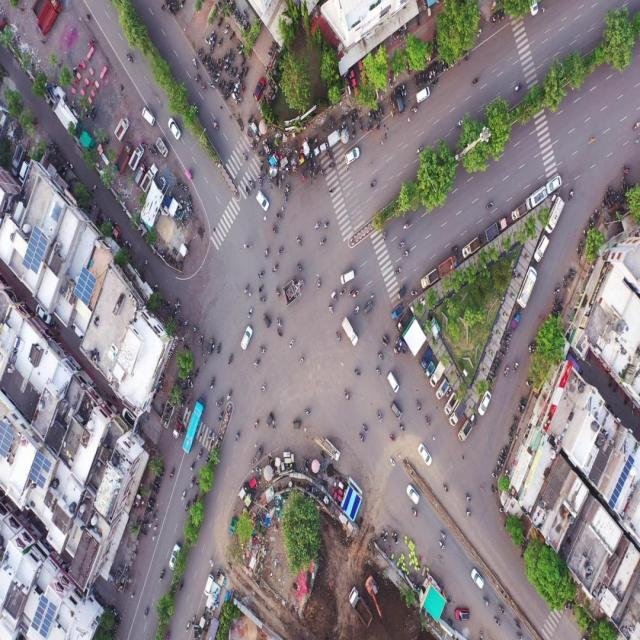3W: (510, 313, 521, 332), (265, 410, 275, 430), (206, 337, 216, 355), (396, 285, 408, 300), (254, 445, 265, 461), (262, 312, 271, 330), (362, 300, 372, 316), (290, 418, 302, 430), (183, 168, 194, 181)
Bus: (182, 400, 207, 451)
Cars: (534, 234, 550, 263), (418, 441, 434, 467), (404, 483, 420, 508), (251, 76, 267, 101), (252, 189, 271, 210), (470, 567, 486, 590), (239, 325, 252, 353), (478, 388, 491, 416), (168, 116, 182, 141), (338, 268, 356, 287), (168, 542, 180, 570), (546, 175, 562, 196), (141, 105, 155, 128), (386, 371, 400, 393), (389, 398, 402, 421), (344, 146, 360, 164), (416, 84, 430, 104), (454, 606, 470, 622), (393, 87, 402, 114), (205, 573, 213, 596)
LCV: (517, 266, 537, 308), (546, 197, 564, 233), (525, 186, 548, 209), (437, 255, 458, 278), (342, 316, 358, 345), (419, 267, 438, 291), (140, 165, 157, 191), (114, 115, 130, 141), (450, 400, 466, 426), (128, 143, 143, 170), (430, 361, 443, 392), (133, 160, 146, 186), (463, 236, 479, 257), (324, 439, 339, 461), (436, 377, 449, 402), (510, 201, 526, 221), (458, 419, 472, 441), (446, 391, 458, 416), (156, 136, 169, 157), (327, 128, 341, 147), (396, 314, 408, 334), (395, 336, 407, 354), (421, 350, 433, 368), (172, 419, 182, 438), (424, 363, 435, 379), (390, 307, 402, 321)
M2W: (168, 464, 176, 480), (375, 409, 383, 425), (329, 289, 338, 303), (491, 616, 502, 627), (295, 259, 303, 274), (296, 355, 306, 367), (211, 119, 220, 132), (316, 274, 322, 293), (189, 474, 196, 490), (158, 567, 166, 581), (142, 606, 150, 620), (502, 364, 510, 378), (416, 144, 425, 156), (497, 603, 506, 615), (513, 618, 522, 630), (225, 389, 233, 402), (410, 505, 418, 518), (126, 52, 134, 65), (485, 201, 495, 211), (295, 234, 302, 248), (209, 375, 216, 389), (234, 429, 241, 443), (180, 488, 187, 502), (226, 353, 234, 365), (218, 393, 224, 409), (196, 445, 202, 461), (184, 497, 190, 513), (482, 596, 490, 608), (298, 170, 306, 182), (567, 188, 574, 201), (512, 361, 519, 374), (343, 390, 350, 403), (415, 399, 422, 412), (256, 269, 265, 279), (313, 221, 322, 231), (456, 118, 465, 128), (449, 244, 458, 254), (276, 246, 284, 257), (369, 178, 377, 189), (442, 483, 450, 494), (464, 507, 472, 518), (288, 338, 295, 350), (273, 286, 280, 298), (188, 461, 195, 473), (191, 494, 198, 506), (246, 307, 253, 319), (199, 333, 205, 347), (192, 56, 198, 70), (389, 432, 396, 444), (327, 304, 334, 316), (394, 265, 401, 277), (216, 16, 223, 28), (228, 30, 235, 42), (352, 109, 358, 123), (513, 82, 522, 91), (516, 631, 525, 640), (303, 407, 312, 416), (139, 529, 148, 538), (276, 317, 284, 327), (179, 578, 184, 594), (438, 540, 446, 550), (262, 247, 268, 260), (207, 429, 213, 442), (271, 223, 277, 236), (307, 160, 313, 173), (260, 382, 267, 393), (193, 103, 200, 114), (440, 530, 447, 541), (361, 423, 368, 434), (491, 13, 496, 28), (243, 283, 249, 295), (253, 358, 261, 367), (204, 452, 210, 464), (282, 192, 288, 204), (322, 220, 330, 229), (375, 366, 381, 378), (348, 285, 354, 297), (340, 286, 346, 298), (409, 289, 418, 297), (262, 168, 268, 180), (318, 167, 326, 176), (507, 430, 513, 442), (257, 284, 264, 294), (253, 419, 260, 429), (210, 434, 215, 448), (249, 180, 256, 190), (472, 77, 479, 87), (358, 432, 365, 442), (389, 457, 396, 467), (402, 249, 409, 259), (402, 221, 409, 231), (326, 151, 333, 161), (276, 328, 282, 339), (334, 330, 340, 341), (241, 56, 247, 67), (238, 68, 244, 79), (228, 67, 234, 78), (216, 342, 221, 355), (244, 185, 249, 198), (194, 366, 199, 379), (209, 28, 214, 41), (490, 488, 498, 496), (271, 263, 278, 272), (319, 238, 326, 247), (275, 212, 282, 221), (328, 187, 335, 196), (354, 368, 361, 377), (353, 289, 360, 298), (398, 241, 405, 250), (431, 78, 438, 87), (501, 343, 508, 352), (260, 346, 266, 356), (185, 620, 190, 632), (201, 81, 207, 91), (399, 423, 405, 433), (424, 415, 430, 425), (378, 351, 383, 363), (354, 304, 359, 316), (72, 67, 77, 79), (148, 146, 154, 156), (153, 145, 158, 157), (223, 24, 229, 34), (198, 48, 204, 58), (227, 48, 232, 60), (230, 53, 235, 65), (243, 68, 249, 78), (220, 81, 226, 91), (247, 113, 253, 123), (349, 113, 354, 125), (402, 84, 407, 96), (383, 531, 388, 543), (256, 464, 262, 474), (512, 415, 518, 425), (259, 296, 266, 304), (328, 162, 335, 170), (442, 58, 446, 72), (418, 73, 422, 87), (219, 410, 224, 421), (212, 33, 217, 44), (258, 176, 263, 187), (259, 160, 264, 171), (371, 112, 376, 123), (466, 494, 472, 503), (217, 1, 223, 10), (381, 338, 387, 347), (376, 119, 380, 132), (432, 65, 436, 78), (205, 54, 210, 64), (277, 178, 282, 188), (321, 450, 326, 460), (191, 615, 196, 625), (142, 521, 149, 528), (204, 38, 211, 45), (492, 362, 499, 369), (201, 54, 207, 62), (222, 53, 228, 61), (377, 103, 381, 115), (436, 63, 440, 75), (479, 232, 483, 244), (379, 530, 385, 538), (242, 153, 247, 162), (384, 335, 389, 344), (218, 78, 222, 89), (274, 176, 278, 187), (352, 127, 356, 138), (359, 121, 363, 132), (380, 106, 384, 117), (153, 484, 160, 490), (422, 72, 425, 86), (492, 472, 498, 479), (497, 460, 503, 467), (501, 448, 508, 454), (495, 358, 502, 364), (93, 108, 97, 118), (218, 38, 223, 46), (216, 59, 220, 69), (219, 63, 223, 73), (239, 44, 243, 54), (216, 73, 220, 83), (368, 121, 372, 131), (389, 77, 393, 87), (426, 72, 429, 85), (210, 44, 214, 53), (414, 75, 417, 87), (497, 12, 500, 24), (499, 456, 505, 462), (499, 350, 505, 356), (153, 488, 158, 495), (510, 425, 515, 432), (90, 106, 94, 114), (142, 142, 148, 147), (147, 508, 152, 514), (148, 503, 154, 508), (234, 66, 237, 76), (258, 150, 263, 156), (496, 467, 500, 472)
Truck: (347, 588, 374, 626), (36, 0, 58, 34), (116, 140, 132, 172)
